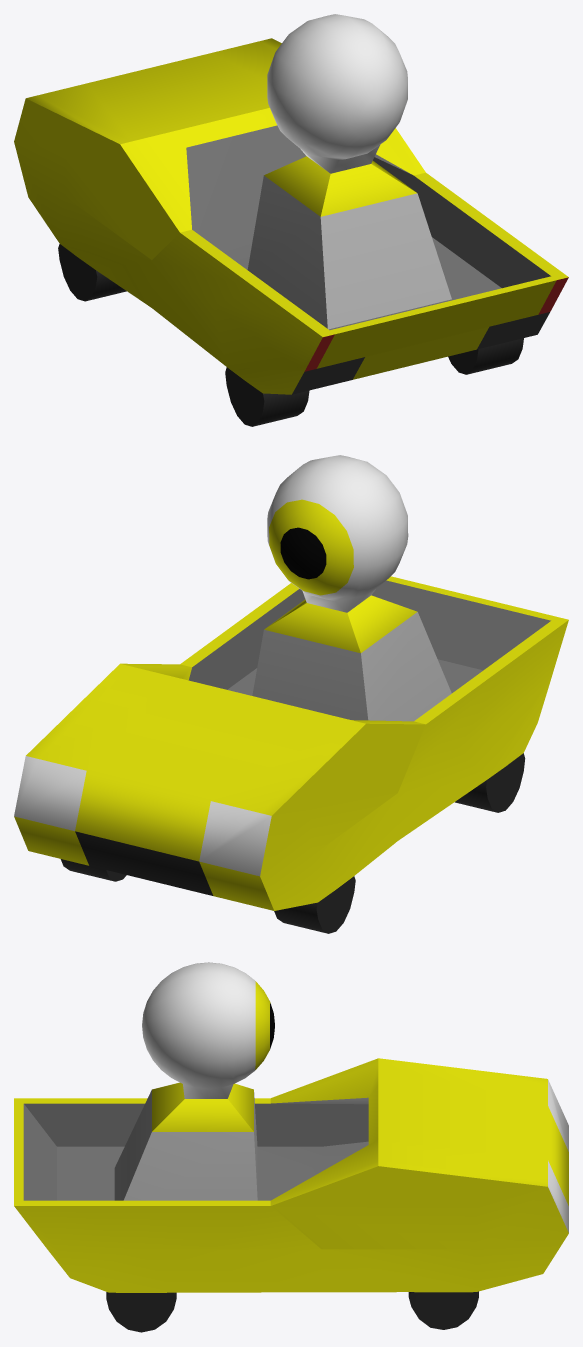
The model's file is WarExplorerYellow.fbx.
3 views of the same model, one above another, from view 1: azimuth 30°, elevation 25°; view 2: azimuth 150°, elevation 25°; view 3: azimuth 270°, elevation 25° (orthographic). The views are drawn at different scales.
Visible parts, largest first — view 1: pSphere2; view 2: pSphere2; view 3: pSphere2.
Boxes of the visible parts, x1,y1,x2,y2 form: pSphere2: (14,14,568,426); pSphere2: (14,455,568,933); pSphere2: (14,962,568,1332).
Bounding box in the file's own units: 2.1 × 2.64 × 4.31.
